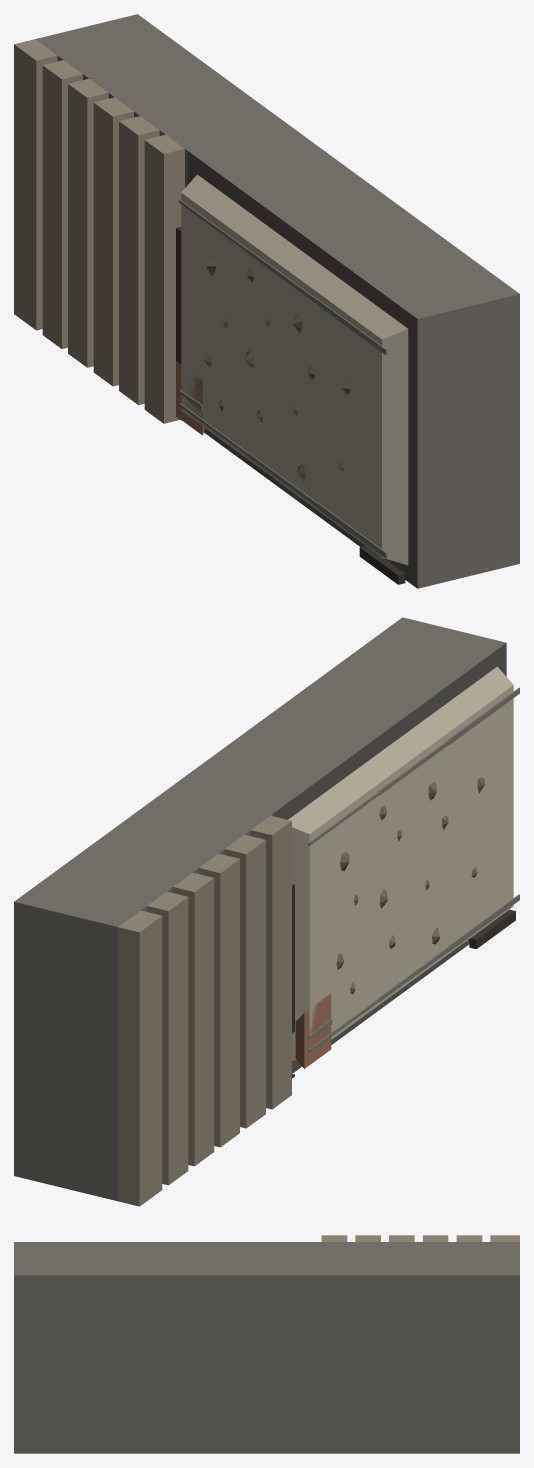
Rendered from VD_RootsteadEntranceBulkhead_Proto.obj.
3 renders of one model, top to bottom at view 1: azimuth 30°, elevation 25°; view 2: azimuth 150°, elevation 25°; view 3: azimuth 270°, elevation 25°, orthographic. The views are drawn at different scales.
Parts seen in each view (by area): view 1: VD_RootsteadEntranceBulkhead_Proto; view 2: VD_RootsteadEntranceBulkhead_Proto; view 3: VD_RootsteadEntranceBulkhead_Proto.
Part boxes in pixels (bbox=[...]): VD_RootsteadEntranceBulkhead_Proto: bbox=[14, 14, 519, 588]; VD_RootsteadEntranceBulkhead_Proto: bbox=[14, 617, 519, 1206]; VD_RootsteadEntranceBulkhead_Proto: bbox=[14, 1235, 519, 1453].
Bounding box in the file's own units: 74.2 × 146 × 375.
